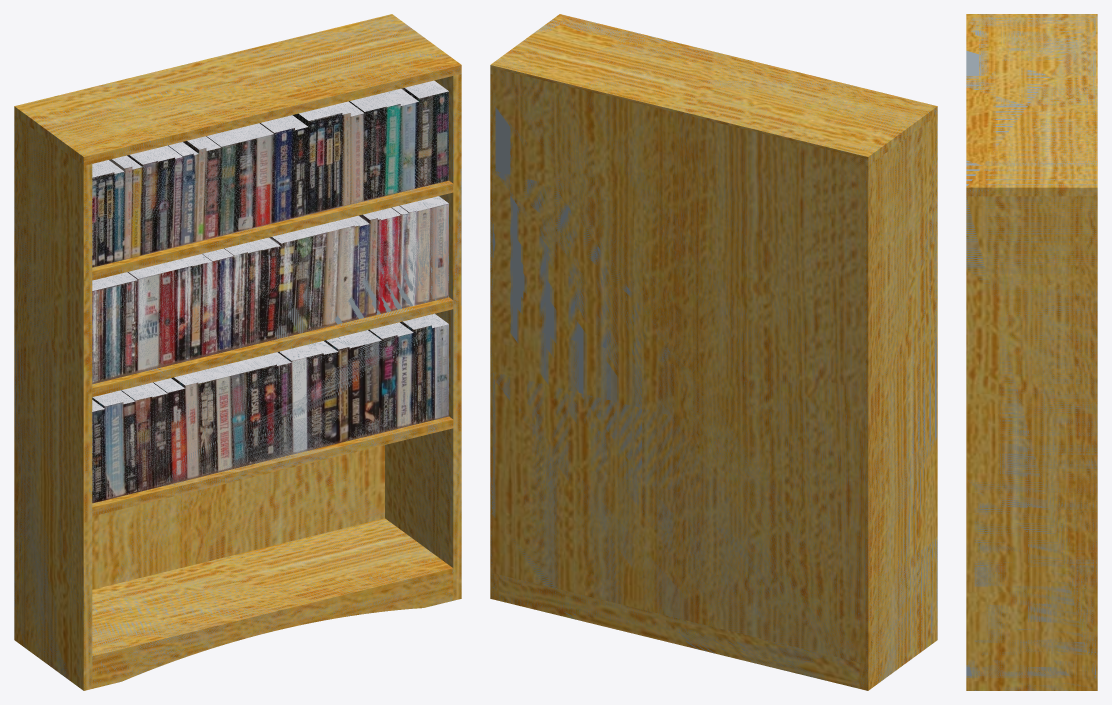
The model's file is Bookcase+800x1080.dae.
The picture shows the model from 3 angles, left to right: view 1: azimuth 30°, elevation 25°; view 2: azimuth 150°, elevation 25°; view 3: azimuth 270°, elevation 25°; orthographic projection. The views are drawn at different scales.
Parts seen in each view (by area): view 1: Bookcase_-_Lateral (×2), Books3 (×2), Books2 (×2), Books1 (×2), group_1, group_0, box, Bookcase_-_Prateleira (×3); view 2: box, Bookcase_-_Lateral (×2), group_0, group_1; view 3: Bookcase_-_Lateral, group_0.
Boxes of the visible parts, x1,y1,x2,y2 form: Bookcase_-_Lateral (×2): (14,74,461,690); Books3 (×2): (92,321,448,503); Books2 (×2): (92,203,448,384); Books1 (×2): (92,88,448,267); group_1: (92,518,453,688); group_0: (14,14,461,165); box: (92,445,384,589); Bookcase_-_Prateleira (×3): (92,180,453,516); box: (492,68,865,663); Bookcase_-_Lateral (×2): (490,74,937,690); group_0: (490,14,937,165); group_1: (498,575,859,688); Bookcase_-_Lateral: (966,196,1097,690); group_0: (966,14,1097,196).
Size of the model in its own units: 31.5 by 10.04 by 42.52.
18 materials, 5 textured.
